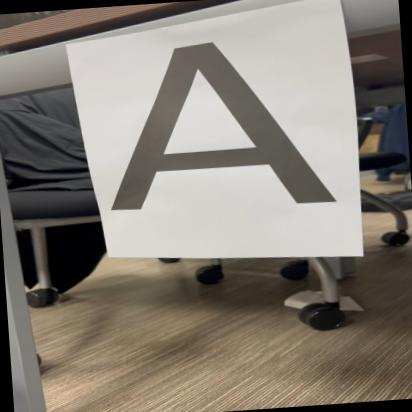seat: (98, 34, 360, 227)
